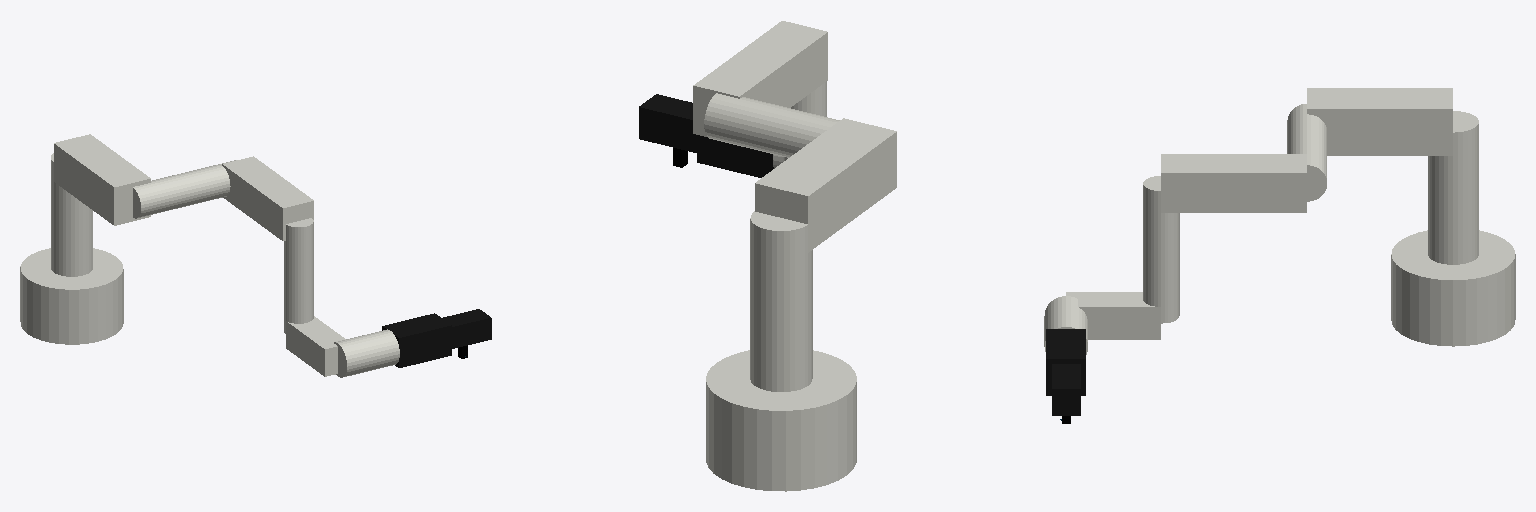
URDF robot description (fr3_d435i_wrist_camera):
<?xml version="1.0"?>
<robot name="fr3_d435i_wrist_camera">
  <!-- Standalone approximation of FR3 kinematics with the supplied wrist mount.
       Replace the primitive arm visuals with official franka_description meshes when available. -->
  <material name="franka_white"><color rgba="0.85 0.85 0.82 1"/></material>
  <material name="franka_dark"><color rgba="0.12 0.12 0.12 1"/></material>
  <material name="mount_gray"><color rgba="0.25 0.28 0.30 1"/></material>
  <material name="camera_black"><color rgba="0.03 0.03 0.03 1"/></material>
  <material name="camera_glass"><color rgba="0.05 0.20 0.30 1"/></material>

  <link name="world"/>
  <link name="base_link">
    <visual><origin xyz="0 0 0.10"/><geometry><cylinder radius="0.17" length="0.20"/></geometry><material name="franka_white"/></visual>
    <collision><origin xyz="0 0 0.10"/><geometry><cylinder radius="0.17" length="0.20"/></geometry></collision>
    <inertial><origin xyz="0 0 0.10"/><mass value="10"/><inertia ixx="0.08" ixy="0" ixz="0" iyy="0.08" iyz="0" izz="0.12"/></inertial>
  </link>
  <joint name="world_to_base" type="fixed"><parent link="world"/><child link="base_link"/><origin xyz="0 0 0"/></joint>

  <link name="panda_link1"><visual><origin xyz="0 0 0.20"/><geometry><cylinder radius="0.07" length="0.40"/></geometry><material name="franka_white"/></visual><collision><origin xyz="0 0 0.20"/><geometry><cylinder radius="0.07" length="0.40"/></geometry></collision><inertial><origin xyz="0 0 0.20"/><mass value="3.0"/><inertia ixx="0.11" ixy="0" ixz="0" iyy="0.11" iyz="0" izz="0.02"/></inertial></link>
  <joint name="panda_joint1" type="revolute"><parent link="base_link"/><child link="panda_link1"/><origin xyz="0 0 0.20" rpy="0 0 0"/><axis xyz="0 0 1"/><limit lower="-2.8973" upper="2.8973" effort="87" velocity="2.175"/></joint>

  <link name="panda_link2"><visual><origin xyz="0 0 -0.20"/><geometry><box size="0.14 0.14 0.40"/></geometry><material name="franka_white"/></visual><collision><origin xyz="0 0 -0.20"/><geometry><box size="0.14 0.14 0.40"/></geometry></collision><inertial><origin xyz="0 0 -0.20"/><mass value="2.5"/><inertia ixx="0.09" ixy="0" ixz="0" iyy="0.09" iyz="0" izz="0.02"/></inertial></link>
  <joint name="panda_joint2" type="revolute"><parent link="panda_link1"/><child link="panda_link2"/><origin xyz="0 0 0.40" rpy="-1.57079632679 0 0"/><axis xyz="0 0 1"/><limit lower="-1.7628" upper="1.7628" effort="87" velocity="2.175"/></joint>

  <link name="panda_link3"><visual><origin xyz="0.20 0 0" rpy="0 1.57079632679 0"/><geometry><cylinder radius="0.055" length="0.40"/></geometry><material name="franka_white"/></visual><collision><origin xyz="0.20 0 0" rpy="0 1.57079632679 0"/><geometry><cylinder radius="0.055" length="0.40"/></geometry></collision><inertial><origin xyz="0.20 0 0"/><mass value="2.7"/><inertia ixx="0.03" ixy="0" ixz="0" iyy="0.10" iyz="0" izz="0.10"/></inertial></link>
  <joint name="panda_joint3" type="revolute"><parent link="panda_link2"/><child link="panda_link3"/><origin xyz="0 0 -0.40" rpy="1.57079632679 0 0"/><axis xyz="0 0 1"/><limit lower="-2.8973" upper="2.8973" effort="87" velocity="2.175"/></joint>

  <link name="panda_link4"><visual><origin xyz="0 0 0.20"/><geometry><box size="0.12 0.12 0.40"/></geometry><material name="franka_white"/></visual><collision><origin xyz="0 0 0.20"/><geometry><box size="0.12 0.12 0.40"/></geometry></collision><inertial><origin xyz="0 0 0.20"/><mass value="2.4"/><inertia ixx="0.09" ixy="0" ixz="0" iyy="0.09" iyz="0" izz="0.02"/></inertial></link>
  <joint name="panda_joint4" type="revolute"><parent link="panda_link3"/><child link="panda_link4"/><origin xyz="0.40 0 0" rpy="1.57079632679 0 0"/><axis xyz="0 0 1"/><limit lower="-3.0718" upper="-0.0698" effort="87" velocity="2.175"/></joint>

  <link name="panda_link5"><visual><origin xyz="0.20 0 0" rpy="0 1.57079632679 0"/><geometry><cylinder radius="0.05" length="0.40"/></geometry><material name="franka_white"/></visual><collision><origin xyz="0.20 0 0" rpy="0 1.57079632679 0"/><geometry><cylinder radius="0.05" length="0.40"/></geometry></collision><inertial><origin xyz="0.20 0 0"/><mass value="2.2"/><inertia ixx="0.025" ixy="0" ixz="0" iyy="0.08" iyz="0" izz="0.08"/></inertial></link>
  <joint name="panda_joint5" type="revolute"><parent link="panda_link4"/><child link="panda_link5"/><origin xyz="0 0 0.40" rpy="-1.57079632679 0 0"/><axis xyz="0 0 1"/><limit lower="-2.8973" upper="2.8973" effort="12" velocity="2.61"/></joint>

  <link name="panda_link6"><visual><origin xyz="0 0 0.13"/><geometry><box size="0.10 0.10 0.26"/></geometry><material name="franka_white"/></visual><collision><origin xyz="0 0 0.13"/><geometry><box size="0.10 0.10 0.26"/></geometry></collision><inertial><origin xyz="0 0 0.13"/><mass value="1.8"/><inertia ixx="0.03" ixy="0" ixz="0" iyy="0.03" iyz="0" izz="0.01"/></inertial></link>
  <joint name="panda_joint6" type="revolute"><parent link="panda_link5"/><child link="panda_link6"/><origin xyz="0.40 0 0" rpy="1.57079632679 0 0"/><axis xyz="0 0 1"/><limit lower="-0.0175" upper="3.7525" effort="12" velocity="2.61"/></joint>

  <link name="panda_link7"><visual><origin xyz="0 0 0.10"/><geometry><cylinder radius="0.06" length="0.20"/></geometry><material name="franka_white"/></visual><collision><origin xyz="0 0 0.10"/><geometry><cylinder radius="0.06" length="0.20"/></geometry></collision><inertial><origin xyz="0 0 0.10"/><mass value="1.2"/><inertia ixx="0.01" ixy="0" ixz="0" iyy="0.01" iyz="0" izz="0.01"/></inertial></link>
  <joint name="panda_joint7" type="revolute"><parent link="panda_link6"/><child link="panda_link7"/><origin xyz="0 0 0.26" rpy="-1.57079632679 0 0"/><axis xyz="0 0 1"/><limit lower="-2.8973" upper="2.8973" effort="12" velocity="2.61"/></joint>
  <link name="panda_hand"><visual><origin xyz="0 0 0.10"/><geometry><box size="0.11 0.11 0.20"/></geometry><material name="franka_dark"/></visual><collision><origin xyz="0 0 0.10"/><geometry><box size="0.11 0.11 0.20"/></geometry></collision><inertial><origin xyz="0 0 0.10"/><mass value="0.73"/><inertia ixx="0.003" ixy="0" ixz="0" iyy="0.003" iyz="0" izz="0.003"/></inertial></link>
  <joint name="panda_hand_joint" type="fixed"><parent link="panda_link7"/><child link="panda_hand"/><origin xyz="0 0 0.20"/></joint>
  <link name="panda_gripper"><visual><origin xyz="0 0 0.08"/><geometry><box size="0.08 0.08 0.16"/></geometry><material name="franka_dark"/></visual><collision><origin xyz="0 0 0.08"/><geometry><box size="0.08 0.08 0.16"/></geometry></collision><inertial><origin xyz="0 0 0.08"/><mass value="0.3"/><inertia ixx="0.001" ixy="0" ixz="0" iyy="0.001" iyz="0" izz="0.001"/></inertial></link>
  <joint name="panda_gripper_joint" type="fixed"><parent link="panda_hand"/><child link="panda_gripper"/><origin xyz="0 0 0.20"/></joint>

  <!-- Supplied mount STL is in millimetres; the 0.001 scale converts it to metres. -->
  <link name="fr3_d435i_mount"><visual><origin xyz="-0.055 -0.050 -0.011"/><geometry><mesh filename="../models/FR3_D435i_mount.stl" scale="0.001 0.001 0.001"/></geometry><material name="mount_gray"/></visual><collision><origin xyz="-0.055 -0.050 -0.011"/><geometry><mesh filename="../models/FR3_D435i_mount.stl" scale="0.001 0.001 0.001"/></geometry></collision><inertial><mass value="0.20"/><inertia ixx="0.0004" ixy="0" ixz="0" iyy="0.0004" iyz="0" izz="0.0004"/></inertial></link>
  <joint name="fr3_mount_joint" type="fixed"><parent link="panda_gripper"/><child link="fr3_d435i_mount"/><origin xyz="0 0 0.02" rpy="0 0 0"/></joint>

  <!-- D435i envelope: 90 x 25 x 25 mm. Camera optical axis points +X. -->
  <link name="d435i_link"><visual><origin xyz="0 0 0"/><geometry><box size="0.090 0.025 0.025"/></geometry><material name="camera_black"/></visual><collision><origin xyz="0 0 0"/><geometry><box size="0.090 0.025 0.025"/></geometry></collision><visual><origin xyz="0.038 -0.013 0" rpy="0 1.57079632679 0"/><geometry><cylinder radius="0.004" length="0.001"/></geometry><material name="camera_glass"/></visual><inertial><mass value="0.09"/><inertia ixx="0.00002" ixy="0" ixz="0" iyy="0.00007" iyz="0" izz="0.00007"/></inertial></link>
  <joint name="d435i_mount_joint" type="fixed"><parent link="fr3_d435i_mount"/><child link="d435i_link"/><origin xyz="0.055 0 0.055" rpy="0 0 0"/></joint>
  <link name="d435i_color_frame"/><joint name="d435i_color_joint" type="fixed"><parent link="d435i_link"/><child link="d435i_color_frame"/><origin xyz="0.045 0 0" rpy="0 0 0"/></joint>
  <link name="d435i_color_optical_frame"/><joint name="d435i_color_optical_joint" type="fixed"><parent link="d435i_color_frame"/><child link="d435i_color_optical_frame"/><origin xyz="0 0 0" rpy="-1.57079632679 0 -1.57079632679"/></joint>
  <link name="d435i_depth_frame"/><joint name="d435i_depth_joint" type="fixed"><parent link="d435i_link"/><child link="d435i_depth_frame"/><origin xyz="0.045 0.006 0"/></joint>
  <link name="d435i_depth_optical_frame"/><joint name="d435i_depth_optical_joint" type="fixed"><parent link="d435i_depth_frame"/><child link="d435i_depth_optical_frame"/><origin xyz="0 0 0" rpy="-1.57079632679 0 -1.57079632679"/></joint>
  <link name="d435i_imu_frame"/><joint name="d435i_imu_joint" type="fixed"><parent link="d435i_link"/><child link="d435i_imu_frame"/><origin xyz="-0.015 0 0"/></joint>
</robot>

--- What the picture shows (computed from the rendered views, not written in the file) ---
The picture shows the robot from 3 angles, left to right: view 1: azimuth 30°, elevation 25°; view 2: azimuth 150°, elevation 25°; view 3: azimuth 270°, elevation 25°; orthographic projection.
Model fr3_d435i_wrist_camera with 18 links and 17 joints (7 revolute, 10 fixed), rooted at world, posed all joints at 0 but 1 set to mid-range because 0 is outside their limits (panda_joint4 = -1.57).
Links seen in each view (by area): view 1: base_link, panda_link2, panda_link4, panda_link1, panda_link3, panda_link5, panda_hand, panda_link6, panda_link7, panda_gripper; view 2: base_link, panda_link2, panda_link1, panda_link4, panda_link3, panda_gripper, panda_hand, panda_link5; view 3: base_link, panda_link2, panda_link4, panda_link1, panda_link5, panda_link6, panda_link3, panda_hand, panda_gripper, panda_link7.
Link boxes in pixels (<box>): base_link: <box>20,248,123,344</box>; panda_link2: <box>54,134,150,225</box>; panda_link4: <box>222,156,313,240</box>; panda_link1: <box>51,153,92,276</box>; panda_link3: <box>133,160,235,218</box>; panda_link5: <box>284,218,313,333</box>; panda_hand: <box>382,313,451,367</box>; panda_link6: <box>286,316,345,376</box>; panda_link7: <box>334,329,399,377</box>; panda_gripper: <box>442,309,491,348</box>; base_link: <box>706,350,856,491</box>; panda_link2: <box>755,118,896,252</box>; panda_link1: <box>750,211,812,391</box>; panda_link4: <box>693,21,827,136</box>; panda_link3: <box>704,93,839,157</box>; panda_gripper: <box>639,94,696,152</box>; panda_hand: <box>697,135,773,177</box>; panda_link5: <box>783,81,826,161</box>; base_link: <box>1391,230,1515,346</box>; panda_link2: <box>1307,88,1452,155</box>; panda_link4: <box>1161,154,1306,212</box>; panda_link1: <box>1428,111,1478,264</box>; panda_link5: <box>1143,176,1179,323</box>; panda_link6: <box>1066,292,1160,339</box>; panda_link3: <box>1287,104,1326,201</box>; panda_hand: <box>1046,329,1085,395</box>; panda_gripper: <box>1052,364,1080,415</box>; panda_link7: <box>1044,296,1087,354</box>.
Size in the robot's own frame: 1.13 by 1.29 by 0.67 metres.
Meshes: 1 distinct files referenced, 0 mesh visuals loaded (none loaded); not drawn: 1 (file found but could not be loaded).
